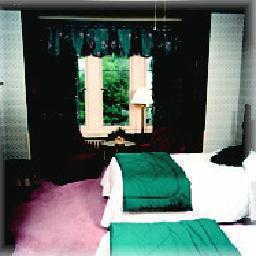Cama: (107, 147, 245, 219), (95, 220, 254, 254)
Ventana: (48, 37, 184, 129)
